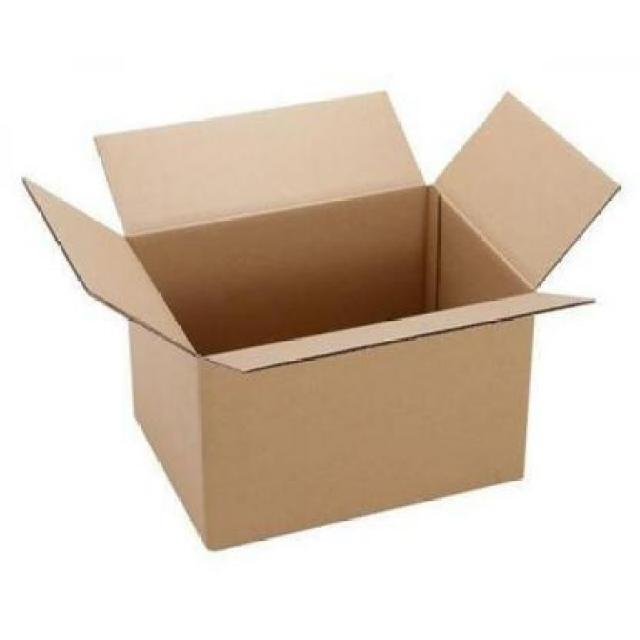box: (28, 94, 608, 548)
